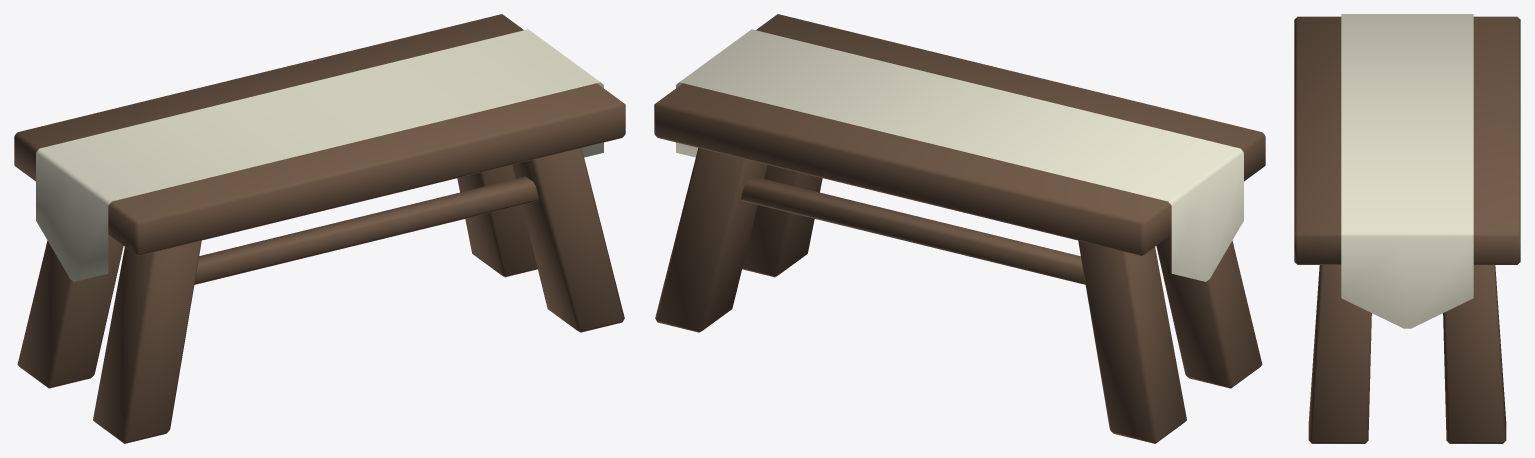
The model's file is Desk.glb.
The picture shows the model from 3 angles, left to right: view 1: azimuth 30°, elevation 25°; view 2: azimuth 150°, elevation 25°; view 3: azimuth 270°, elevation 25°; orthographic projection. The views are drawn at different scales.
Parts seen in each view (by area): view 1: Cube.001; view 2: Cube.001; view 3: Cube.001.
Boxes of the visible parts, left/top/right/bottom form: Cube.001: left=14, top=14, right=625, bottom=443; Cube.001: left=654, top=14, right=1265, bottom=443; Cube.001: left=1294, top=14, right=1520, bottom=443.
Size of the model in its own units: 3.07 by 1.34 by 1.31.
